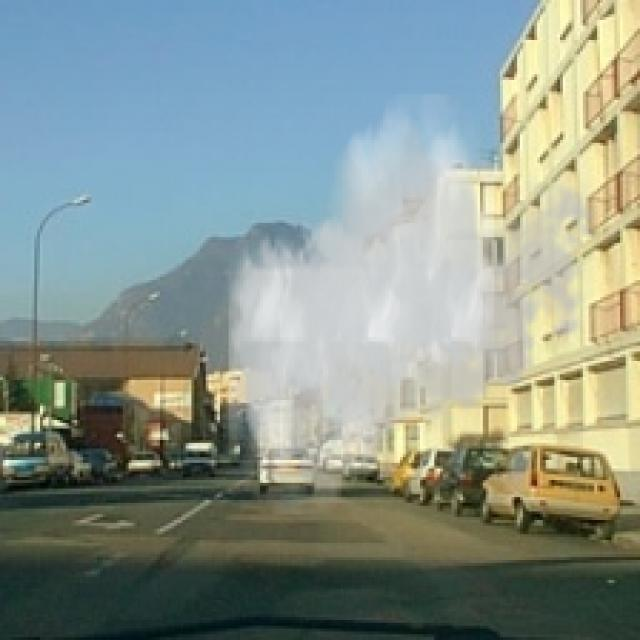smoke: (228, 94, 606, 514)
